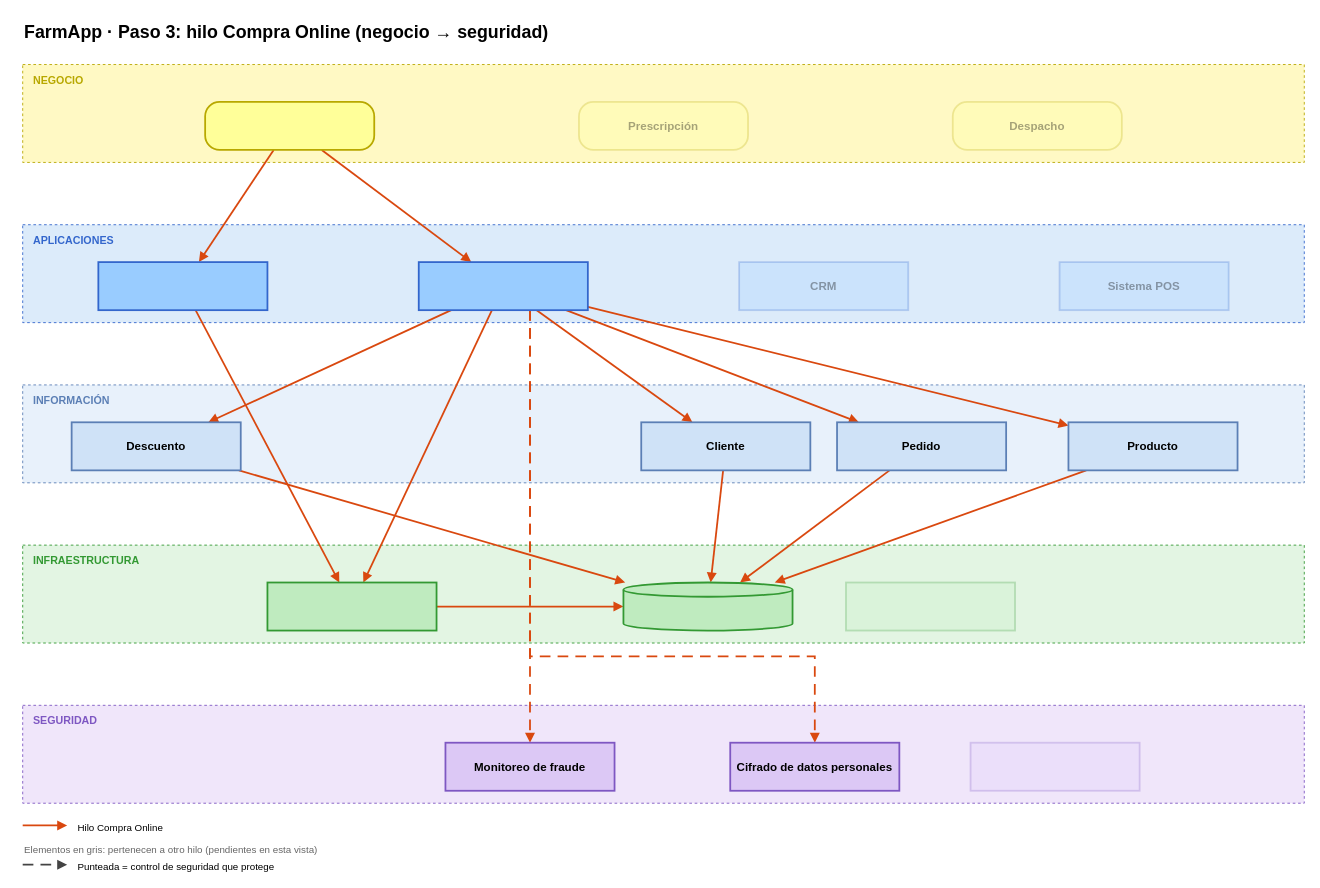
This 1320x888 diagram has some shape labels left out. The shapes that lost their labels are listed below. From the top down, each one's centre as x and y in pixels, then its label:
the point at 289,125: Compra Online
the point at 182,286: App Móvil
the point at 502,286: Plataforma E-commerce
the point at 351,606: Nube Híbrida
the point at 707,606: Base de Datos Replicada
the point at 930,606: Servidores Regionales
the point at 1054,766: Control de acceso por rol
